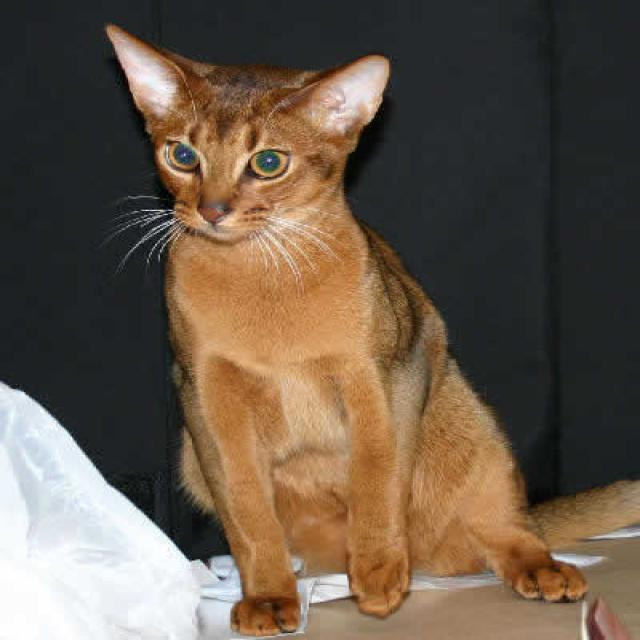Abyssinian: (103, 21, 388, 239)
